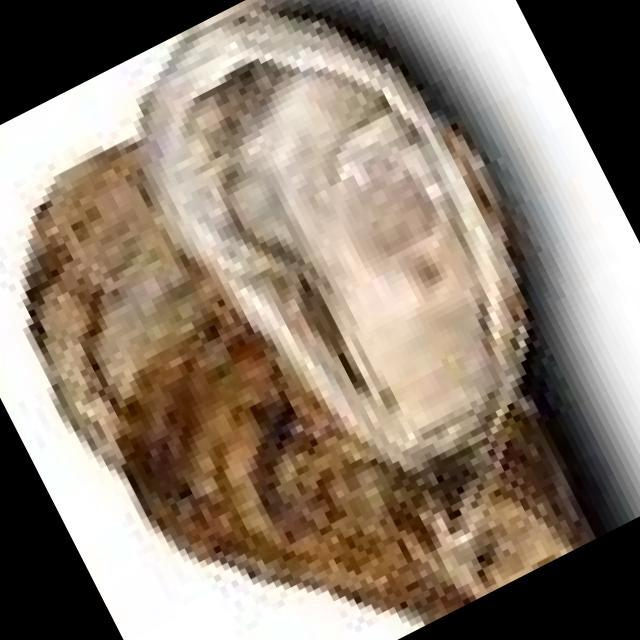Oyster-Closed: (117, 299, 475, 611), (20, 134, 256, 476)
Oyster-Open: (135, 1, 529, 475)
